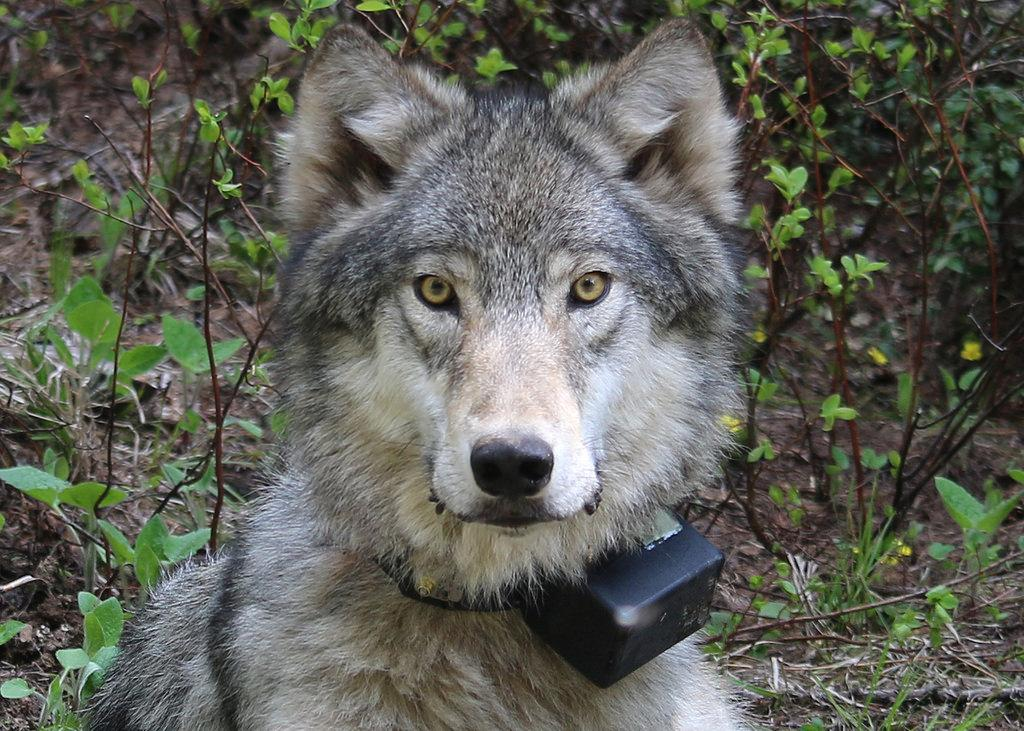Wolf: (93, 13, 764, 731)
